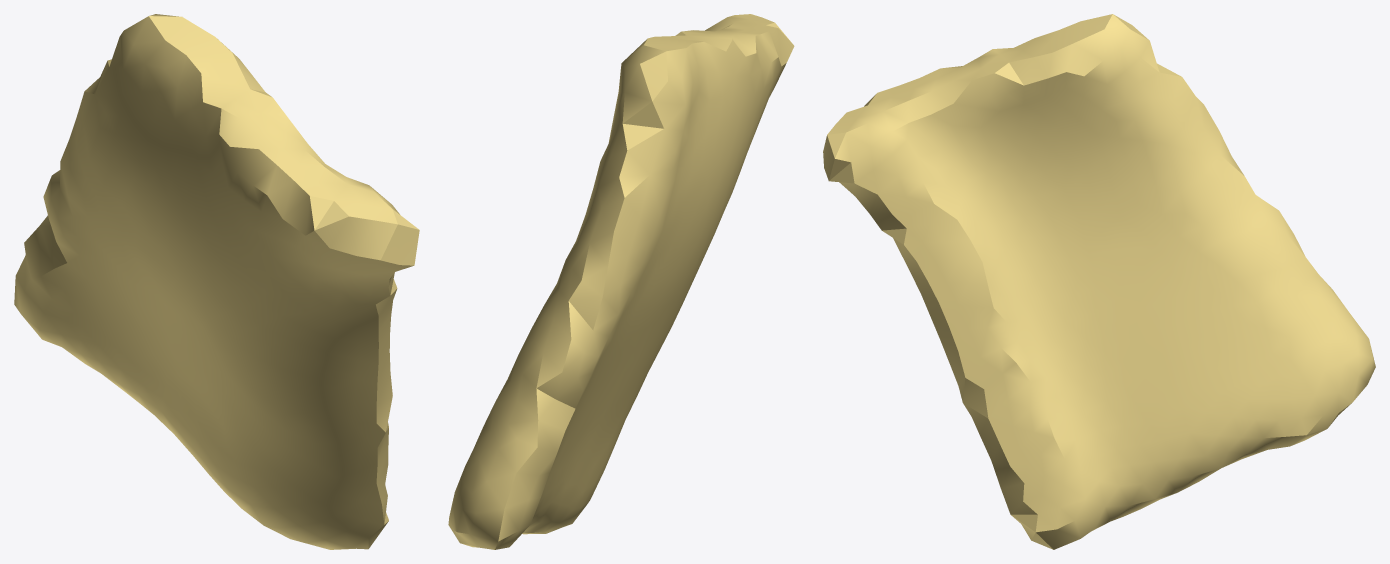
File: fma73591_mm3595.glb
The picture shows the model from 3 angles, left to right: view 1: azimuth 30°, elevation 25°; view 2: azimuth 150°, elevation 25°; view 3: azimuth 270°, elevation 25°; orthographic projection. The views are drawn at different scales.
Visible parts, largest first — view 1: FMA73591_MM3595; view 2: FMA73591_MM3595; view 3: FMA73591_MM3595.
Part boxes in pixels (bbox=[...]): FMA73591_MM3595: bbox=[14, 14, 419, 549]; FMA73591_MM3595: bbox=[448, 14, 794, 549]; FMA73591_MM3595: bbox=[823, 14, 1375, 549].
Bounding box in the file's own units: 0.00164 × 0.00391 × 0.00422.
